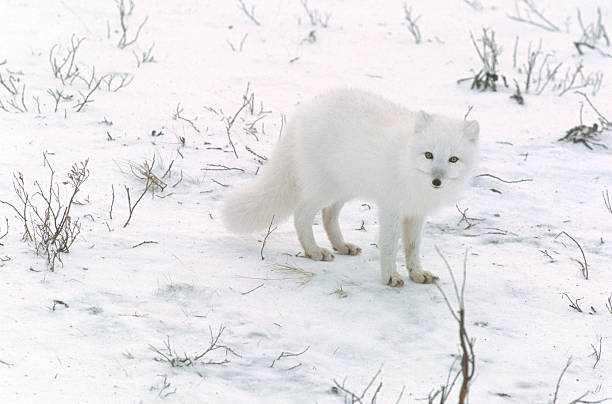arcticfox: (404, 122, 476, 203)
